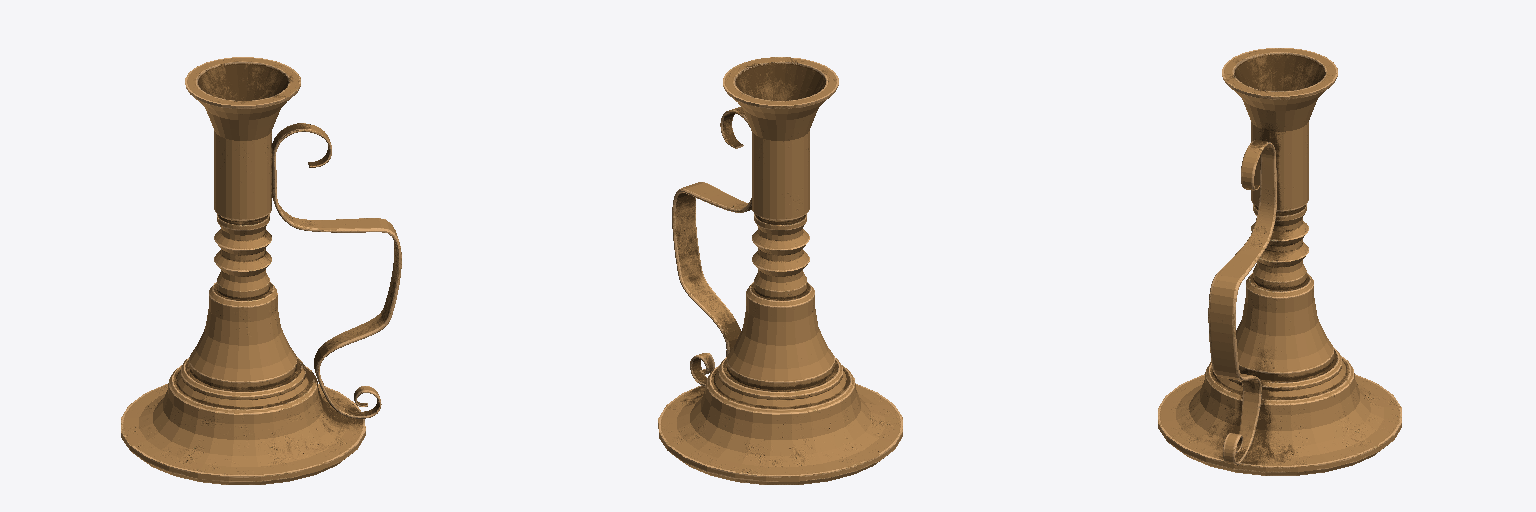
3 renders of one model, left to right at view 1: azimuth 30°, elevation 25°; view 2: azimuth 150°, elevation 25°; view 3: azimuth 270°, elevation 25°, orthographic.
Parts seen in each view (by area): view 1: obj1, obj4; view 2: obj1, obj4; view 3: obj1, obj4.
Boxes of the visible parts, box(x1,y1,x2,y2) form: obj1: box(121, 57, 365, 484); obj4: box(272, 123, 401, 418); obj1: box(658, 57, 902, 484); obj4: box(672, 107, 751, 386); obj1: box(1158, 48, 1401, 475); obj4: box(1208, 140, 1276, 464).
Bounding box in the file's own units: 28.16 × 40.22 × 25.13.
1 materials, 1 textured.